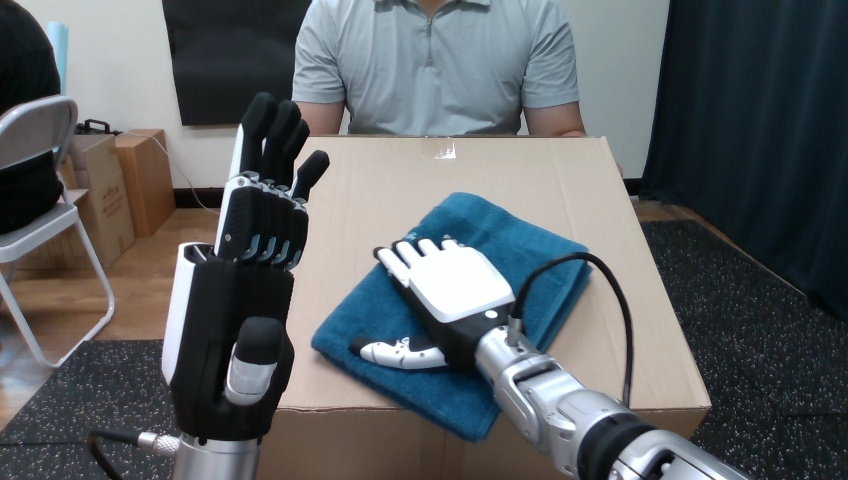left robot hand: (350, 238, 749, 479), (87, 92, 328, 479), (521, 258, 626, 401)
